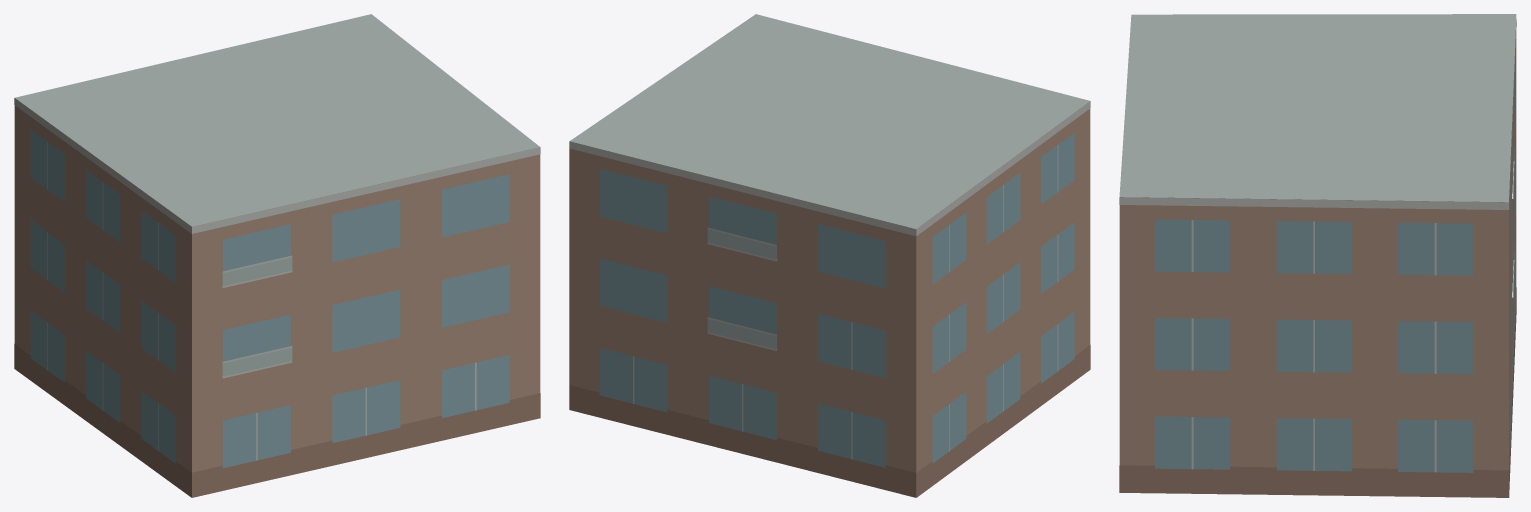
File: survey-upis-32576690.glb
The picture shows the model from 3 angles, left to right: view 1: azimuth 30°, elevation 25°; view 2: azimuth 150°, elevation 25°; view 3: azimuth 270°, elevation 25°; orthographic projection. The views are drawn at different scales.
Parts seen in each view (by area): view 1: survey-upis-32576690.tmp; view 2: survey-upis-32576690.tmp; view 3: survey-upis-32576690.tmp.
Part boxes in pixels (left/top/right/bottom): survey-upis-32576690.tmp: left=14, top=14, right=540, bottom=497; survey-upis-32576690.tmp: left=569, top=14, right=1090, bottom=497; survey-upis-32576690.tmp: left=1119, top=14, right=1516, bottom=497.
Bounding box in the file's own units: 12.5 × 9.15 × 11.15.
